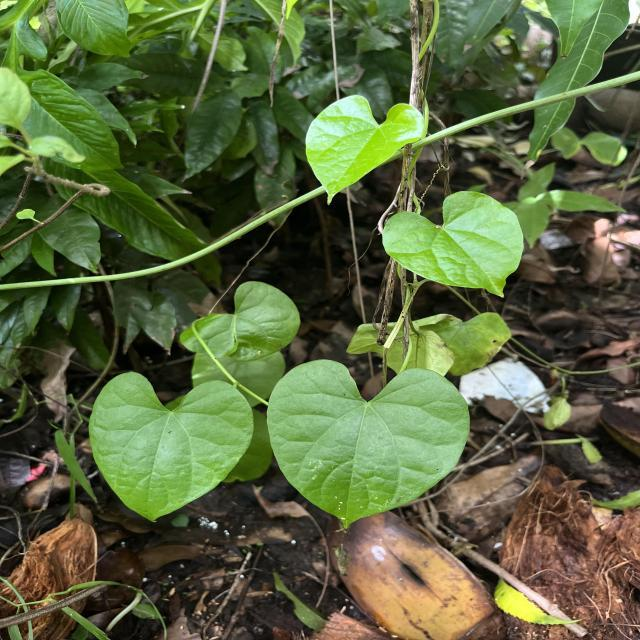Tinospora cordifolia: (264, 356, 472, 534), (86, 370, 256, 523), (380, 188, 526, 300), (303, 94, 427, 208)
